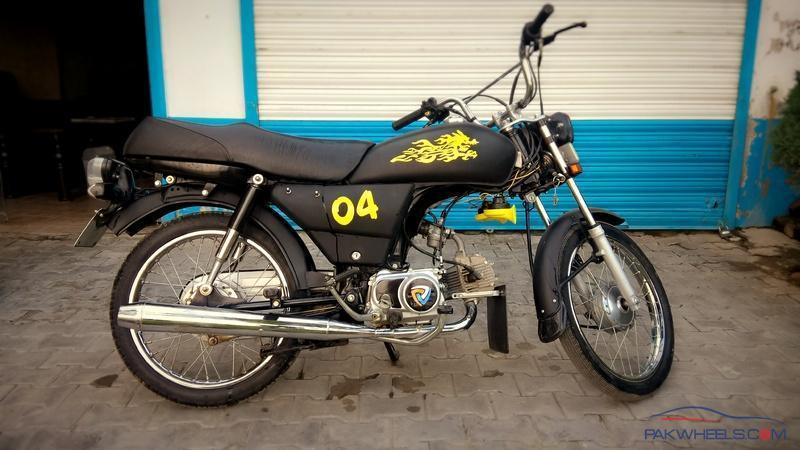bike: (66, 3, 675, 413)
